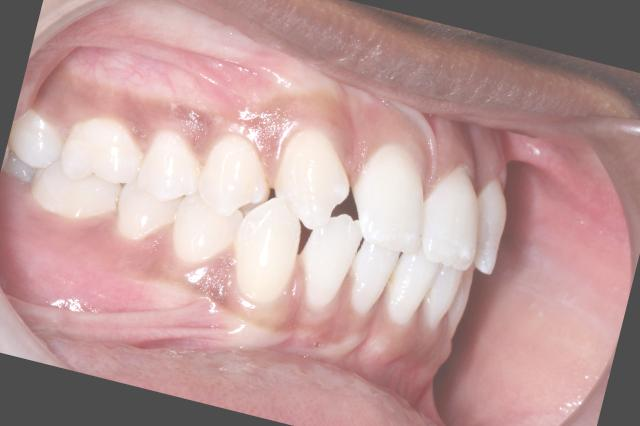canine class II full class: (156, 97, 366, 334)
molar class II full class: (21, 91, 155, 236)
